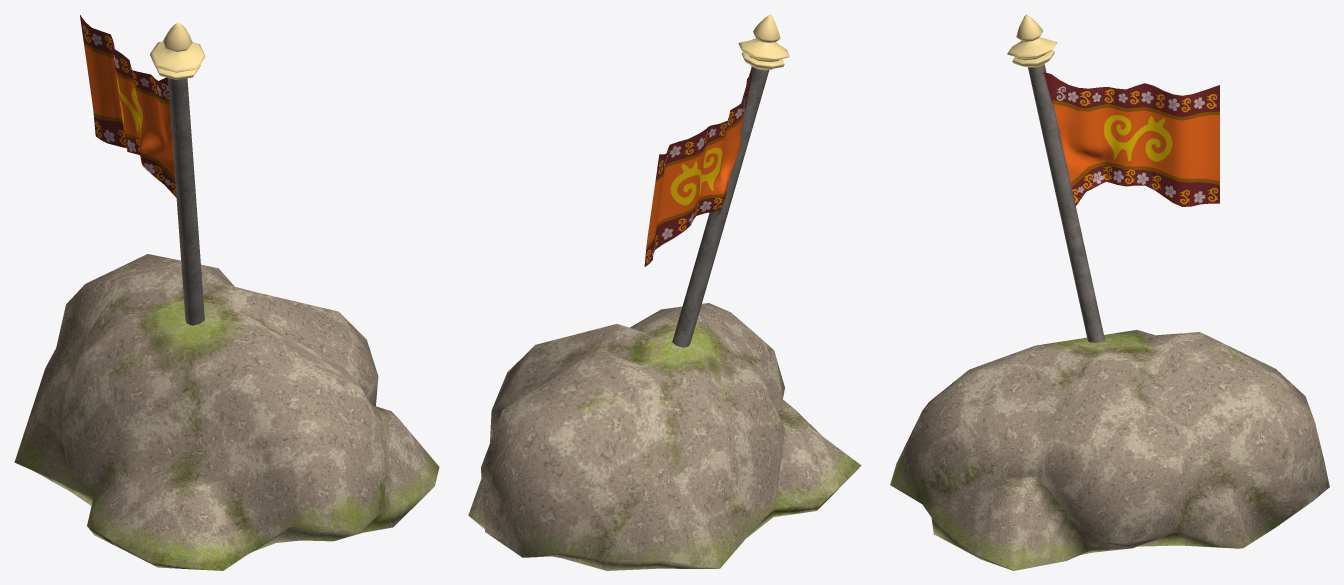
File: SM_flag on rock.fbx
3 renders of one model, left to right at view 1: azimuth 30°, elevation 25°; view 2: azimuth 150°, elevation 25°; view 3: azimuth 270°, elevation 25°, orthographic. The views are drawn at different scales.
Visible parts, largest first — view 1: polySurface1, pCube4; view 2: polySurface1, pCube4; view 3: polySurface1, pCube4.
Part boxes in pixels (bbox=[...]): polySurface1: bbox=[14, 254, 439, 570]; pCube4: bbox=[80, 15, 205, 325]; polySurface1: bbox=[468, 303, 861, 570]; pCube4: bbox=[644, 14, 789, 347]; polySurface1: bbox=[890, 330, 1329, 570]; pCube4: bbox=[1007, 14, 1219, 342].
Bounding box in the file's own units: 106 × 158 × 139.
2 materials, 2 textured.
